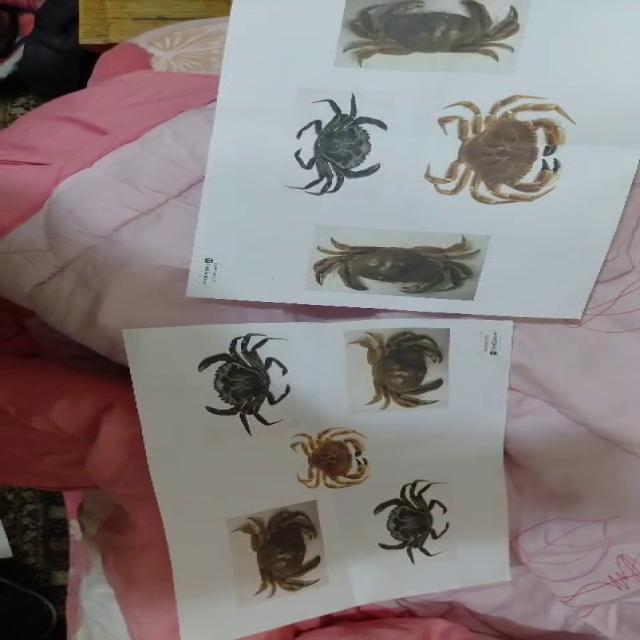egc: (287, 93, 387, 195), (198, 333, 289, 435), (375, 480, 449, 565)
